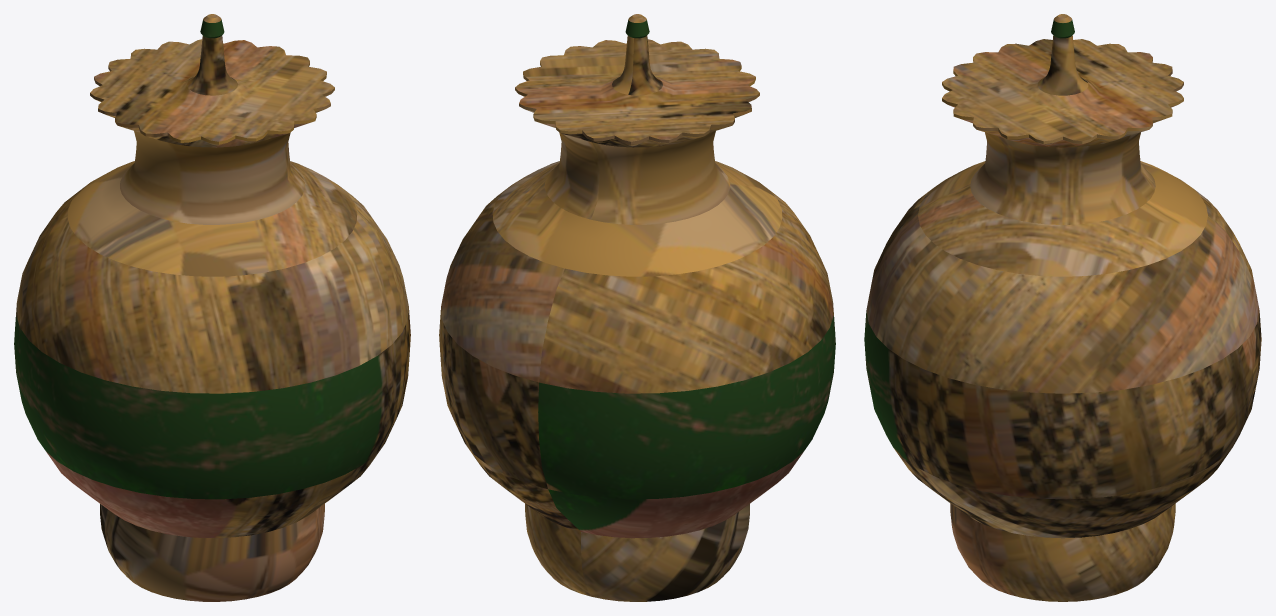
The model's file is xi_oam_hanginglamp_oval.gltf.
The picture shows the model from 3 angles, left to right: view 1: azimuth 30°, elevation 25°; view 2: azimuth 150°, elevation 25°; view 3: azimuth 270°, elevation 25°; orthographic projection.
Visible parts, largest first — view 1: xi_oam_hanginglamp_oval; view 2: xi_oam_hanginglamp_oval; view 3: xi_oam_hanginglamp_oval.
Boxes of the visible parts, x1,y1,x2,y2 form: xi_oam_hanginglamp_oval: [14, 14, 410, 601]; xi_oam_hanginglamp_oval: [439, 14, 835, 601]; xi_oam_hanginglamp_oval: [864, 14, 1261, 601].
Bounding box in the file's own units: 0.3316 × 0.5039 × 0.3316.
Materials: 1 (1 with a texture image).
